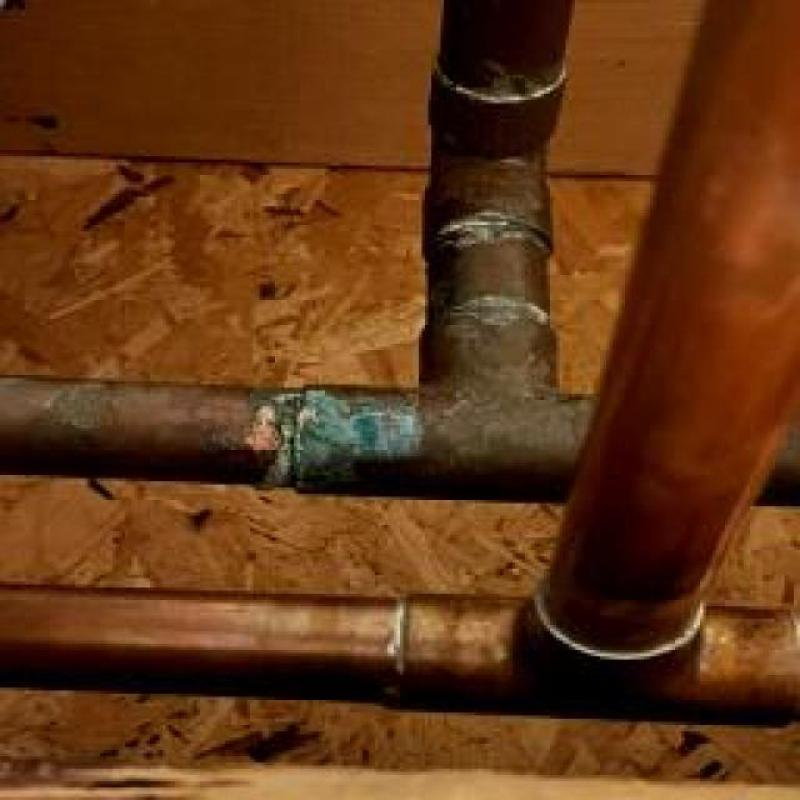corrosion: (266, 394, 325, 481), (450, 209, 544, 244)
